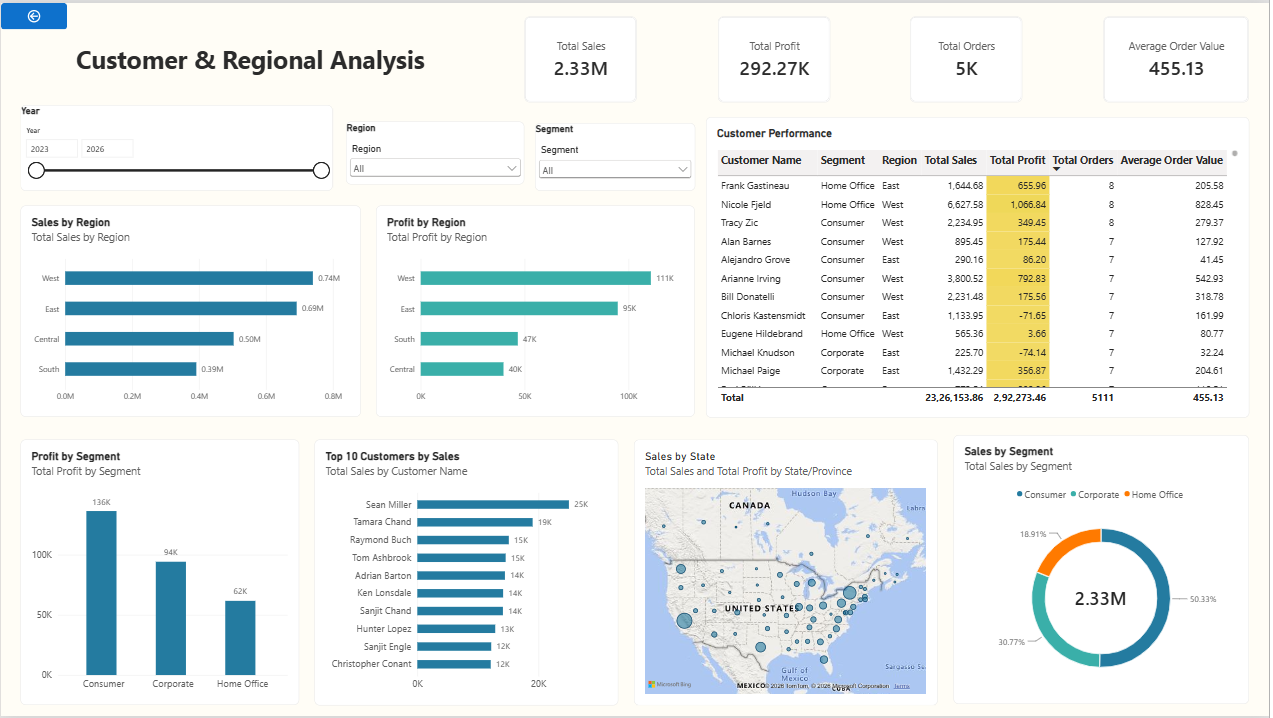

The dashboard page shown, as its layout file describes it:
{"tool":"powerbi","page":{"name":"Customer & Regional Analysis","canvas":[1920,1080],"ordinal":2},"visuals":[{"type":"cardVisual","fields":{"Data":["Orders.Total Sales"]},"box":[792.7,20.4,170,130],"z":0},{"type":"cardVisual","fields":{"Data":["Orders.Total Profit"]},"box":[1084.9,20.4,170,130],"z":1000},{"type":"cardVisual","fields":{"Data":["Orders.Total Orders"]},"box":[1377.2,20.4,170,130],"z":2000},{"type":"cardVisual","fields":{"Data":["Orders.Average Order Value"]},"box":[1669.4,20.4,220.3,130],"z":3000},{"type":"clusteredBarChart","title":"Sales by Region","fields":{"Category":["Orders.Region"],"Y":["Orders.Total Sales"]},"box":[30,307.5,515,320],"z":4000},{"type":"clusteredBarChart","title":"Profit by Region","fields":{"Category":["Orders.Region"],"Y":["Orders.Total Profit"]},"box":[567.5,307.5,482.5,320],"z":5000},{"type":"donutChart","title":"Sales by Segment","fields":{"Category":["Orders.Segment"],"Y":["Orders.Total Sales"]},"box":[1442.5,655,447.5,407.5],"z":6000},{"type":"clusteredColumnChart","title":"Profit by Segment","fields":{"Category":["Orders.Segment"],"Y":["Orders.Total Profit"]},"box":[30,660.5,422,402],"z":7000},{"type":"barChart","title":"Top 10 Customers by Sales","fields":{"Category":["Orders.Customer Name"],"Y":["Orders.Total Sales"]},"box":[475.5,660,460,402.5],"z":8000},{"type":"map","title":"Sales by State","fields":{"Category":["Orders.State/Province"],"Size":["Orders.Total Sales"]},"box":[959,660,460,402.5],"z":9000},{"type":"tableEx","title":"Customer Performance","fields":{"Values":["Orders.Customer Name","Orders.Segment","Orders.Region","Orders.Total Sales","Orders.Total Profit","Orders.Total Orders","Orders.Average Order Value"]},"box":[1067.5,172.5,822.5,455],"z":10000},{"type":"actionButton","box":[0,0,100,40],"z":11000},{"type":"slicer","title":"Year","fields":{"Values":["DateTable.Year"]},"box":[30,155,472.5,130],"z":12000},{"type":"slicer","title":"Region","fields":{"Values":["Orders.Region"]},"box":[522.5,180,270,95],"z":13000},{"type":"slicer","title":"Segment","fields":{"Values":["Orders.Segment"]},"box":[807.5,182.5,242.5,102.5],"z":14000},{"type":"textbox","box":[1652,902,150,161],"z":15000},{"type":"textbox","box":[50,40,655,87.5],"z":16000}]}

Visuals, with their boxes in screenshot pixels (x1, y1, x2, y2), scaled from the page's 1920x1080 canvas onto the 1273x718 screenshot:
cardVisual - Orders.Total Sales: (left=526, top=14, right=638, bottom=100)
cardVisual - Orders.Total Profit: (left=719, top=14, right=832, bottom=100)
cardVisual - Orders.Total Orders: (left=913, top=14, right=1026, bottom=100)
cardVisual - Orders.Average Order Value: (left=1107, top=14, right=1253, bottom=100)
"Sales by Region" clusteredBarChart: (left=20, top=204, right=361, bottom=417)
"Profit by Region" clusteredBarChart: (left=376, top=204, right=696, bottom=417)
"Sales by Segment" donutChart: (left=956, top=435, right=1253, bottom=706)
"Profit by Segment" clusteredColumnChart: (left=20, top=439, right=300, bottom=706)
"Top 10 Customers by Sales" barChart: (left=315, top=439, right=620, bottom=706)
"Sales by State" map: (left=636, top=439, right=941, bottom=706)
"Customer Performance" tableEx: (left=708, top=115, right=1253, bottom=417)
actionButton: (left=0, top=0, right=66, bottom=27)
"Year" slicer: (left=20, top=103, right=333, bottom=189)
"Region" slicer: (left=346, top=120, right=525, bottom=183)
"Segment" slicer: (left=535, top=121, right=696, bottom=189)
textbox: (left=1095, top=600, right=1195, bottom=707)
textbox: (left=33, top=27, right=467, bottom=85)
